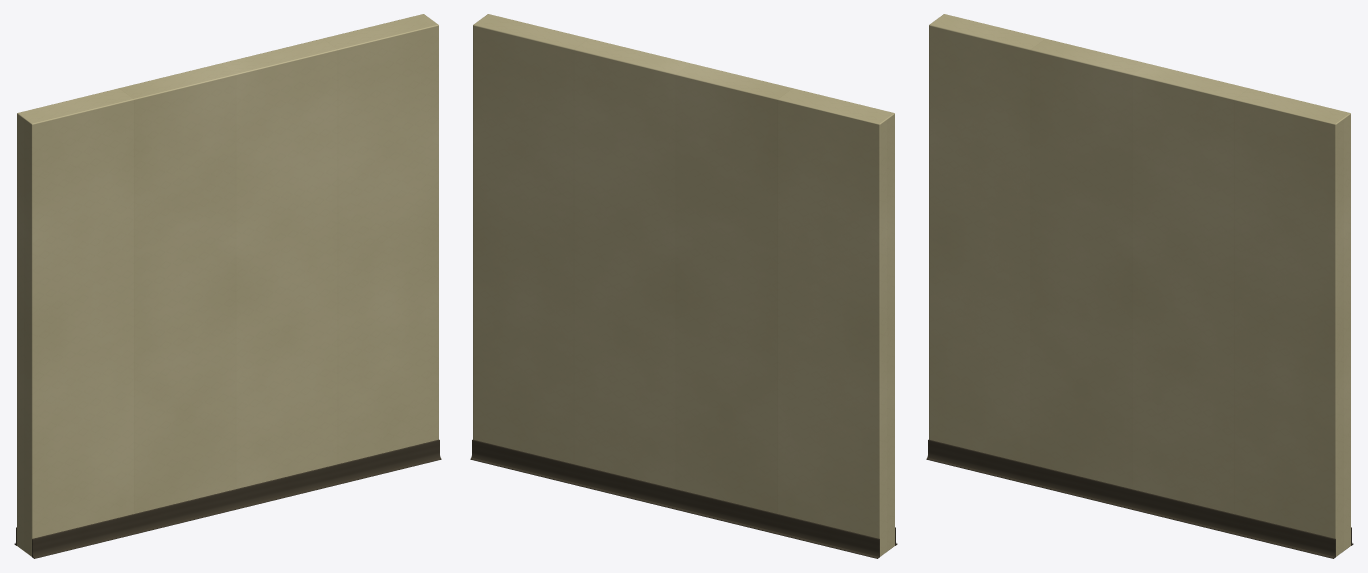
Rendered from wall_low_244.gltf.
3 views of the same model, side by side, from view 1: azimuth 30°, elevation 25°; view 2: azimuth 150°, elevation 25°; view 3: azimuth 330°, elevation 25° (orthographic).
Parts seen in each view (by area): view 1: wall_low_244; view 2: wall_low_244; view 3: wall_low_244.
Boxes of the visible parts, x1=… form: wall_low_244: x1=14, y1=14, x2=441, y2=558; wall_low_244: x1=470, y1=14, x2=897, y2=558; wall_low_244: x1=926, y1=14, x2=1353, y2=558.
Bounding box in the file's own units: 2.44 × 2.48 × 0.208.
2 materials, 2 textured.
